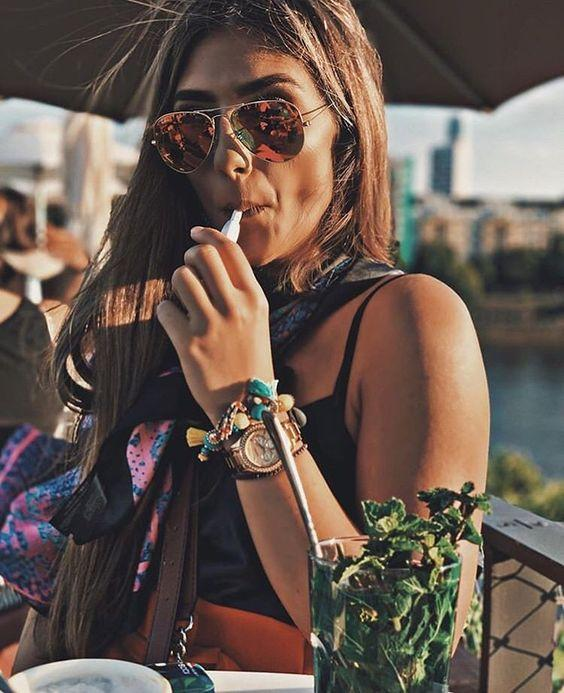iqos: (221, 210, 242, 242)
